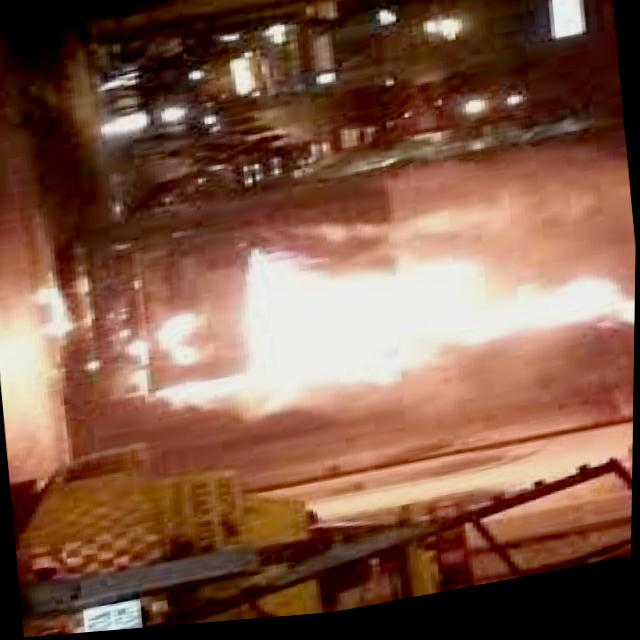Fire: (231, 186, 637, 452)
Smoke: (391, 125, 638, 310)
